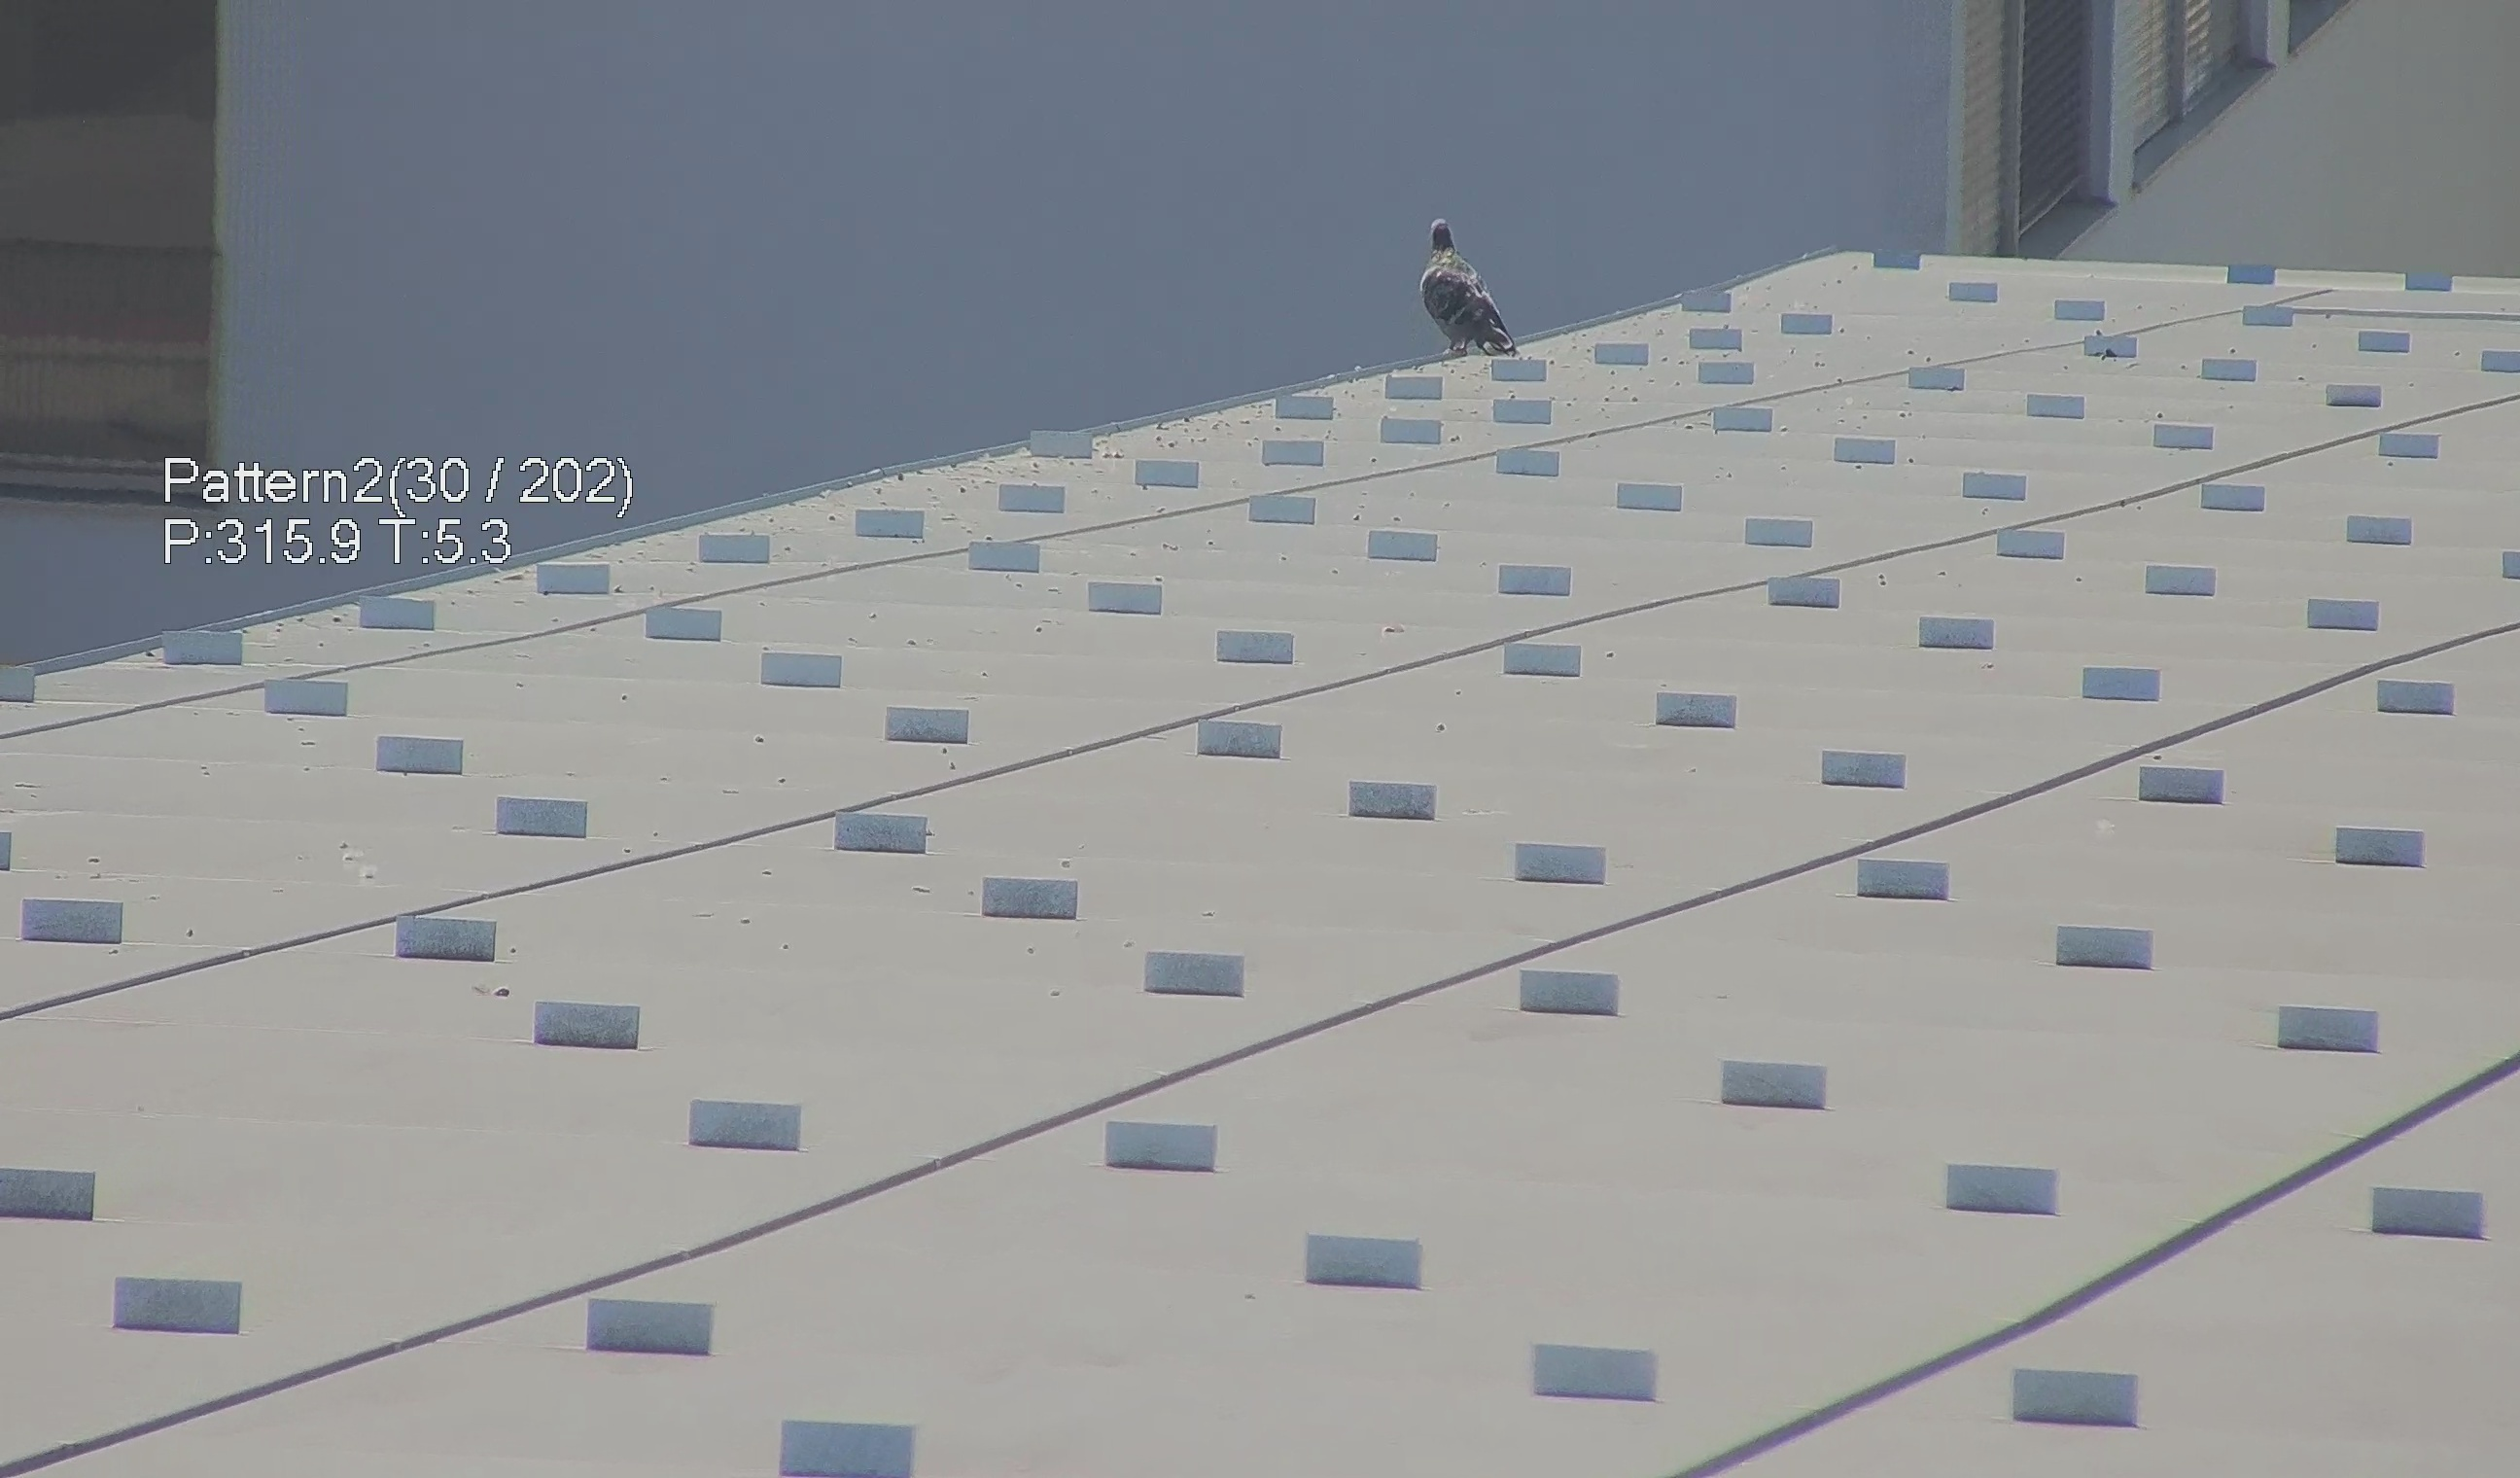Pigeon: (1407, 206, 1525, 368)
